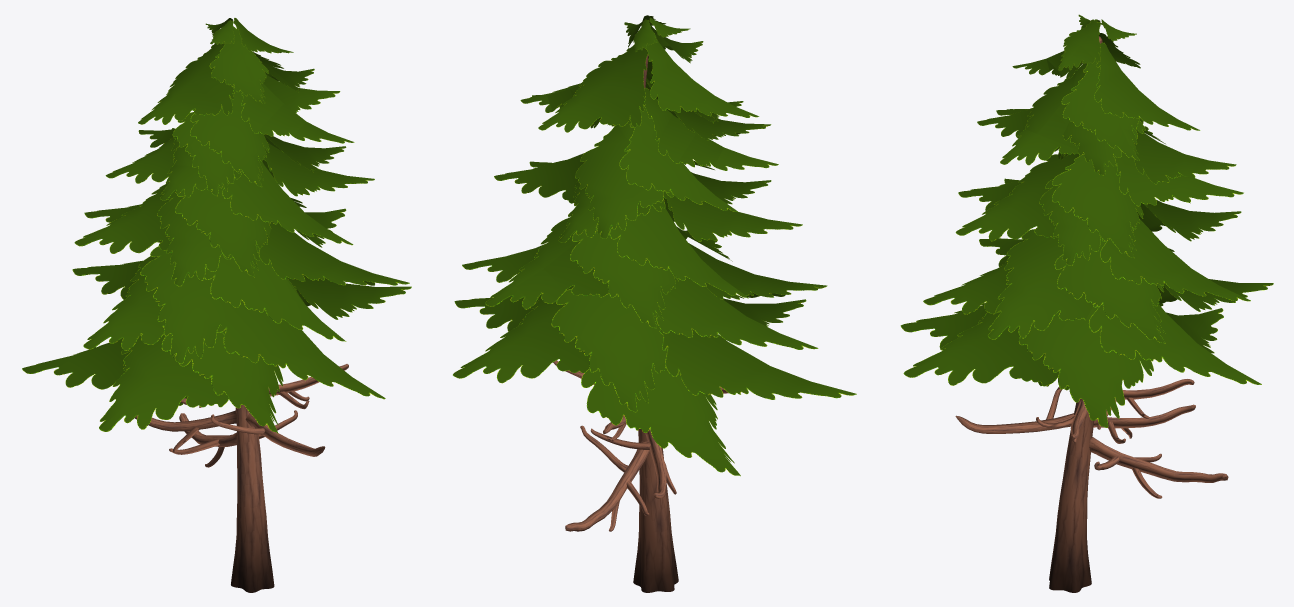
The model's file is Pine_1.gltf.
The picture shows the model from 3 angles, left to right: view 1: azimuth 30°, elevation 25°; view 2: azimuth 150°, elevation 25°; view 3: azimuth 270°, elevation 25°; orthographic projection. The views are drawn at different scales.
Parts seen in each view (by area): view 1: Pine_1; view 2: Pine_1; view 3: Pine_1.
Boxes of the visible parts, left/top/right/bottom form: Pine_1: left=22, top=18, right=411, bottom=592; Pine_1: left=453, top=15, right=856, bottom=592; Pine_1: left=900, top=14, right=1273, bottom=592.
Size of the model in its own units: 4.94 by 7.32 by 4.54.
Materials: 2 (2 with a texture image).
